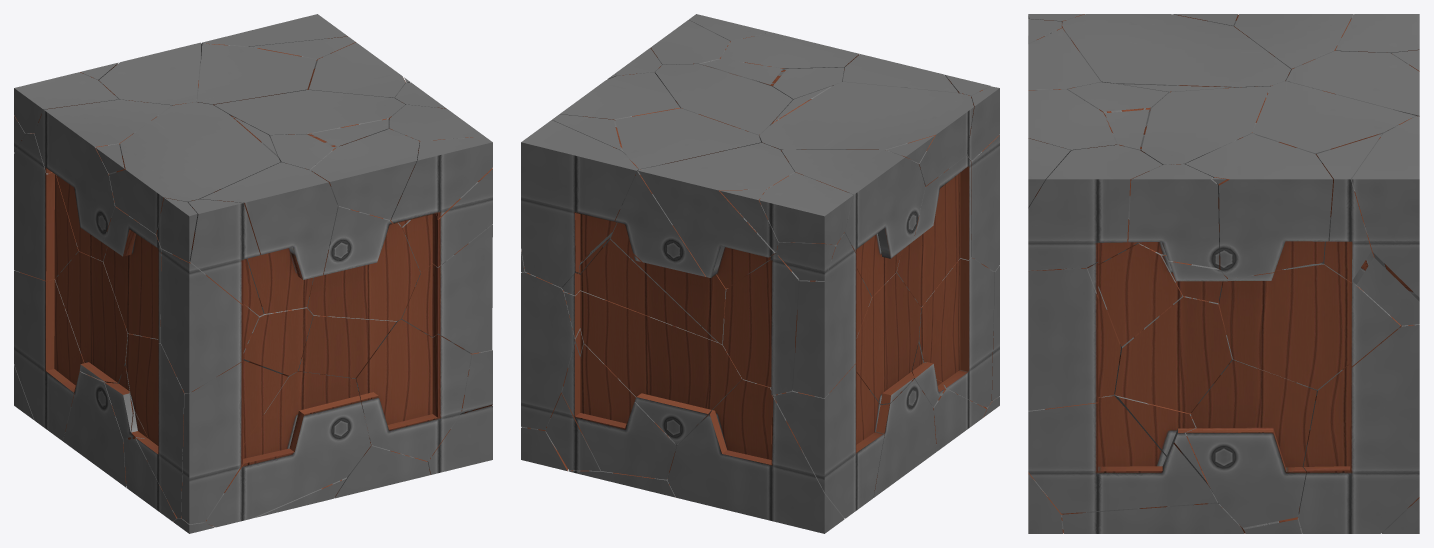
The model's file is Fractured Crate.fbx.
The picture shows the model from 3 angles, left to right: view 1: azimuth 30°, elevation 25°; view 2: azimuth 150°, elevation 25°; view 3: azimuth 270°, elevation 25°; orthographic projection. The views are drawn at different scales.
Parts seen in each view (by area): view 1: Cube_cell.060, Cube_cell.040, Cube_cell.029, Cube_cell.001, Cube_cell.017, Cube_cell.042, Cube_cell.018, Cube_cell.051, Cube_cell.077, Cube_cell.070, Cube_cell.069, Cube_cell.007 (+27 smaller); view 2: Cube_cell.009, Cube_cell.023, Cube_cell.016, Cube_cell.040, Cube_cell.048, Cube_cell.017, Cube_cell.077, Cube_cell.069, Cube_cell.006, Cube_cell.025, Cube_cell.056, Cube_cell.063 (+28 smaller); view 3: Cube_cell.014, Cube_cell.015, Cube_cell.034, Cube_cell.076, Cube_cell.059, Cube_cell.040, Cube_cell.007, Cube_cell.070, Cube_cell.026, Cube_cell.023, Cube_cell.021, Cube_cell.065 (+20 smaller).
Boxes of the visible parts, box(x1,y1,x2,y2) form: Cube_cell.060: box(204, 371, 370, 527); Cube_cell.040: box(109, 102, 280, 234); Cube_cell.029: box(356, 319, 471, 461); Cube_cell.001: box(200, 162, 337, 313); Cube_cell.017: box(34, 99, 172, 261); Cube_cell.042: box(181, 360, 288, 524); Cube_cell.018: box(307, 205, 420, 320); Cube_cell.051: box(161, 248, 258, 393); Cube_cell.077: box(14, 270, 84, 440); Cube_cell.070: box(399, 224, 492, 353); Cube_cell.069: box(125, 333, 184, 518); Cube_cell.007: box(387, 104, 492, 272); Cube_cell.009: box(667, 379, 844, 533); Cube_cell.023: box(521, 120, 639, 287); Cube_cell.016: box(564, 290, 741, 444); Cube_cell.040: box(759, 82, 973, 186); Cube_cell.048: box(638, 142, 794, 288); Cube_cell.017: box(781, 149, 925, 296); Cube_cell.077: box(770, 363, 889, 518); Cube_cell.069: box(918, 257, 994, 407); Cube_cell.006: box(562, 343, 676, 479); Cube_cell.025: box(792, 232, 871, 398); Cube_cell.056: box(723, 253, 798, 394); Cube_cell.063: box(610, 167, 728, 344); Cube_cell.014: box(1298, 324, 1419, 533); Cube_cell.015: box(1186, 360, 1316, 527); Cube_cell.034: box(1219, 263, 1400, 389); Cube_cell.076: box(1028, 395, 1217, 514); Cube_cell.059: box(1185, 133, 1333, 278); Cube_cell.040: box(1062, 14, 1290, 87); Cube_cell.007: box(1028, 145, 1162, 271); Cube_cell.070: box(1028, 269, 1120, 410); Cube_cell.026: box(1114, 295, 1244, 413); Cube_cell.023: box(1351, 116, 1419, 301); Cube_cell.021: box(1128, 164, 1219, 268); Cube_cell.065: box(1136, 86, 1270, 164).
Size of the model in its own units: 1 by 1 by 1.
